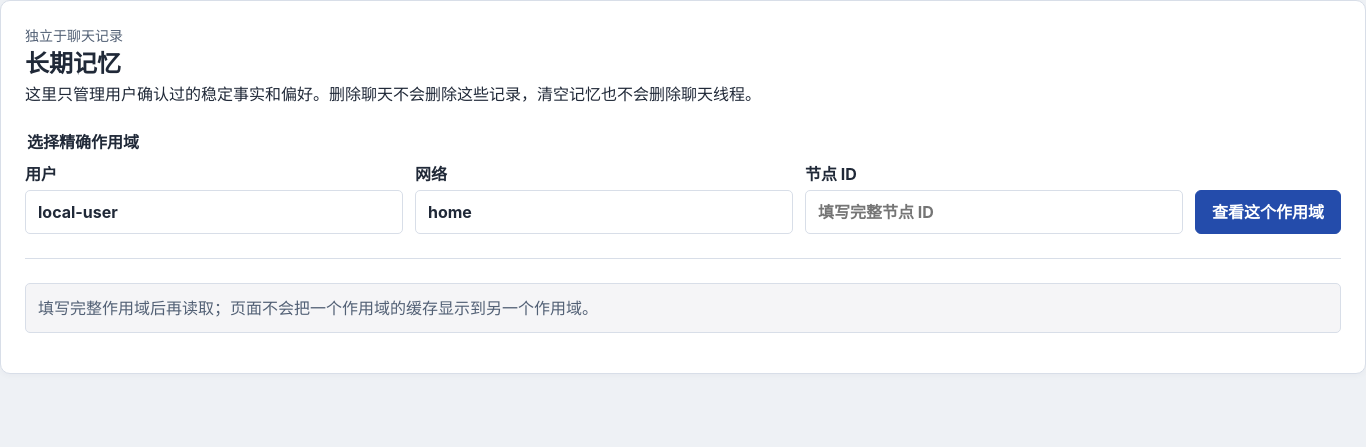
Test: MemoriesPage › 在请求前拒绝错误 node_id，并拒绝错误 memory_id 与默认作用域格式
Type "6fcf3484-754b-46c6-bc3e-f4571e76495e" into the field labelled "节点 ID".
click(994, 212); type("6fcf3484-754b-46c6-bc3e-f4571e76495e")  # box top-left (805, 190), bottom-right (1183, 234)
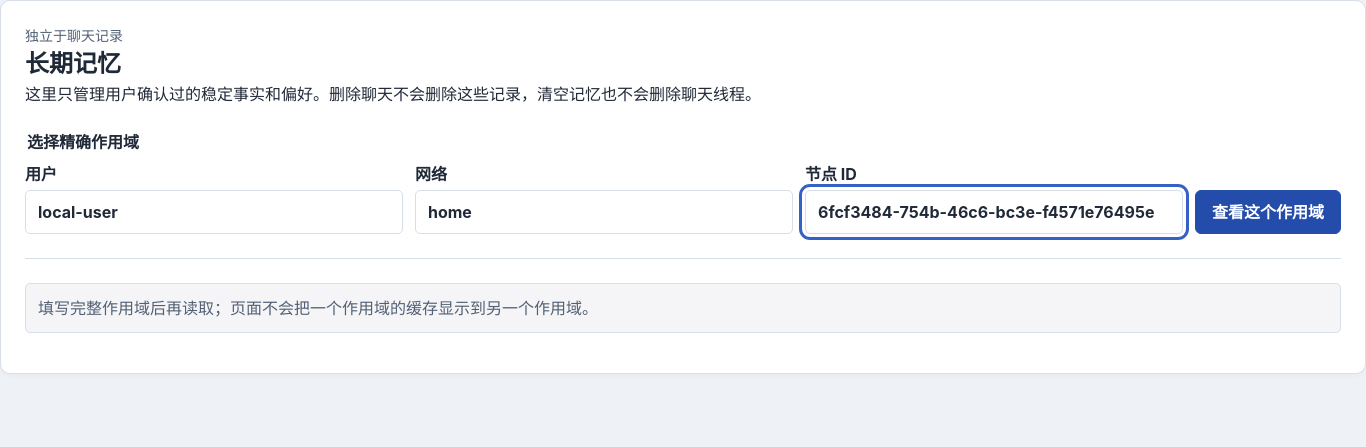
Click the button "查看这个作用域".
click(1268, 212)  # box top-left (1195, 190), bottom-right (1341, 234)
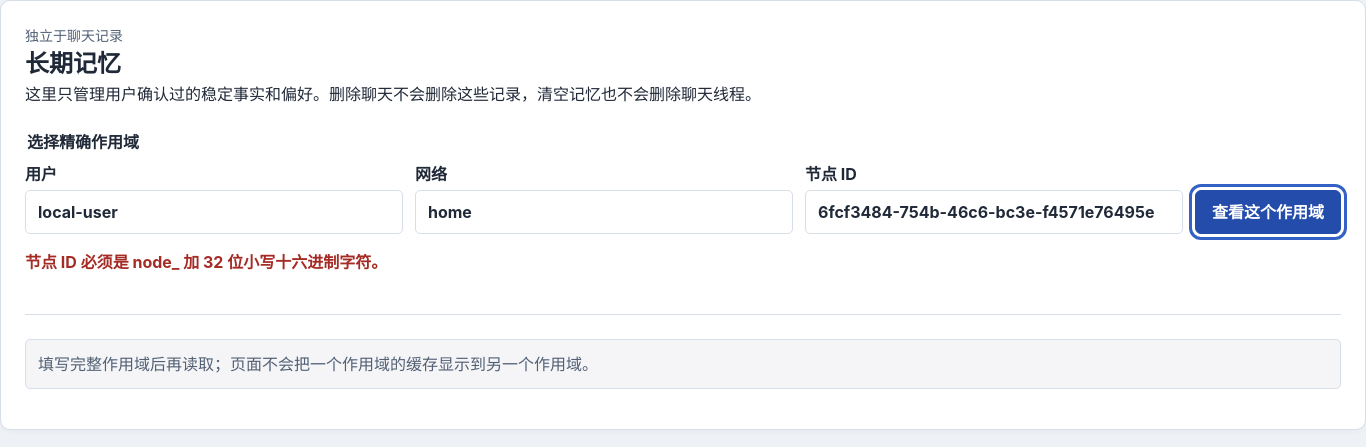
Expected: the text "节点 ID 必须是 node_ 加 32 位小写十六进制字符。" is shown, top-left (25, 252), bottom-right (387, 272)
